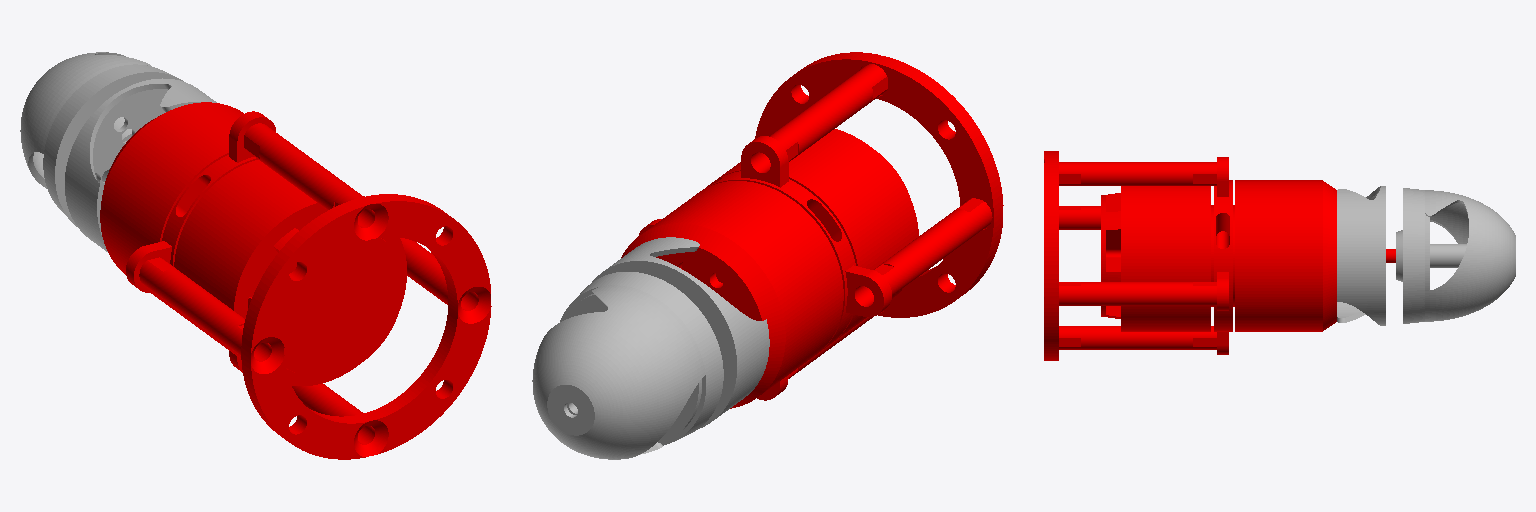
The robot description file, URDF, robot "crm2413_assembly_2":
<!--URDF generated by ONSHAPE BY PTC INC, 1.215-->
<robot name="crm2413_assembly_2">
    <link name="root">
        <visual>
            <origin xyz="0 0 0" rpy="0 -0 0" />
            <geometry>
                <mesh filename="package://crm2413_assembly_2/meshes/Base_ring.stl" scale="1 1 1" />
            </geometry>
            <material name="1.000000_0.000000_0.000000_0.000000_0.000000">
                <color rgba="1 0 0 1" />
            </material>
        </visual>
        <visual>
            <origin xyz="-0.0185 0.0189 -1.73472e-18" rpy="0 1.5708 -0" />
            <geometry>
                <mesh filename="package://crm2413_assembly_2/meshes/Extension_rods.stl" scale="1 1 1" />
            </geometry>
            <material name="1.000000_0.000000_0.000000_0.000000_0.000000">
                <texture />
                <color rgba="1 0 0 1" />
            </material>
        </visual>
        <visual>
            <origin xyz="0.0185 0.0189 -1.2745e-16" rpy="0 -1.5708 0" />
            <geometry>
                <mesh filename="package://crm2413_assembly_2/meshes/Extension_rods.stl" scale="1 1 1" />
            </geometry>
            <material name="1.000000_0.000000_0.000000_0.000000_0.000000">
                <texture />
                <color rgba="1 0 0 1" />
            </material>
        </visual>
        <visual>
            <origin xyz="-8.76982e-15 0.07955 -1.00788e-14" rpy="-3.14159 -0.713907 3.14159" />
            <geometry>
                <mesh filename="package://crm2413_assembly_2/meshes/CW_8038_propeller.stl" scale="1 1 1" />
            </geometry>
            <material name="0.796078_0.823529_0.937255_0.000000_0.000000">
                <texture />
                <color rgba="0.796078 0.823529 0.937255 1" />
            </material>
        </visual>
        <visual>
            <origin xyz="-1.92042e-16 0.0189 -0.0185" rpy="0 -0 0" />
            <geometry>
                <mesh filename="package://crm2413_assembly_2/meshes/Extension_rods.stl" scale="1 1 1" />
            </geometry>
            <material name="1.000000_0.000000_0.000000_0.000000_0.000000">
                <texture />
                <color rgba="1 0 0 1" />
            </material>
        </visual>
        <visual>
            <origin xyz="2.31365e-18 0.07815 -4.0769e-19" rpy="0 0.862768 0" />
            <geometry>
                <mesh filename="package://crm2413_assembly_2/meshes/Propeller_2_cover.stl" scale="1 1 1" />
            </geometry>
            <material name="0.752941_0.752941_0.752941_0.000000_0.000000">
                <texture />
                <color rgba="0.752941 0.752941 0.752941 1" />
            </material>
        </visual>
        <visual>
            <origin xyz="-3.46945e-18 0.0364 -6.45924e-17" rpy="0 -0 0" />
            <geometry>
                <mesh filename="package://crm2413_assembly_2/meshes/CRM2413.stl" scale="1 1 1" />
            </geometry>
            <material name="1.000000_0.000000_0.000000_0.000000_0.000000">
                <texture />
                <color rgba="1 0 0 1" />
            </material>
        </visual>
        <visual>
            <origin xyz="-3.46945e-18 0.0364 -6.45924e-17" rpy="0 -0 0" />
            <geometry>
                <mesh filename="package://crm2413_assembly_2/meshes/CRM2413_1.stl" scale="1 1 1" />
            </geometry>
            <material name="1.000000_0.000000_0.000000_0.000000_0.000000">
                <texture />
                <color rgba="1 0 0 1" />
            </material>
        </visual>
        <visual>
            <origin xyz="-3.46945e-18 0.0364 -6.45924e-17" rpy="0 -0 0" />
            <geometry>
                <mesh filename="package://crm2413_assembly_2/meshes/CRM2413_2.stl" scale="1 1 1" />
            </geometry>
            <material name="1.000000_0.000000_0.000000_0.000000_0.000000">
                <texture />
                <color rgba="1 0 0 1" />
            </material>
        </visual>
        <visual>
            <origin xyz="-3.46945e-18 0.0364 -6.45924e-17" rpy="0 -0 0" />
            <geometry>
                <mesh filename="package://crm2413_assembly_2/meshes/CRM2413_3.stl" scale="1 1 1" />
            </geometry>
            <material name="1.000000_0.000000_0.000000_0.000000_0.000000">
                <texture />
                <color rgba="1 0 0 1" />
            </material>
        </visual>
        <visual>
            <origin xyz="-0.00293175 0.06045 -0.00555381" rpy="0 -0.435223 0" />
            <geometry>
                <mesh filename="package://crm2413_assembly_2/meshes/CCW_8038_propeller.stl" scale="1 1 1" />
            </geometry>
            <material name="1.000000_1.000000_1.000000_0.000000_0.000000">
                <texture />
                <color rgba="1 1 1 1" />
            </material>
        </visual>
        <visual>
            <origin xyz="-4.98491e-18 0.07235 -5.82183e-17" rpy="-2.97887e-16 0.280642 -1.50559e-16" />
            <geometry>
                <mesh filename="package://crm2413_assembly_2/meshes/Cone_screw.stl" scale="1 1 1" />
            </geometry>
            <material name="0.752941_0.752941_0.752941_0.000000_0.000000">
                <texture />
                <color rgba="0.752941 0.752941 0.752941 1" />
            </material>
        </visual>
        <visual>
            <origin xyz="6.28577e-17 0.0189 0.0185" rpy="3.14159 -3.36902e-15 3.14159" />
            <geometry>
                <mesh filename="package://crm2413_assembly_2/meshes/Extension_rods.stl" scale="1 1 1" />
            </geometry>
            <material name="1.000000_0.000000_0.000000_0.000000_0.000000">
                <texture />
                <color rgba="1 0 0 1" />
            </material>
        </visual>
        <visual>
            <origin xyz="-4.54734e-19 0.07365 -7.72725e-17" rpy="0 -0.372567 0" />
            <geometry>
                <mesh filename="package://crm2413_assembly_2/meshes/Propeller_2_base.stl" scale="1 1 1" />
            </geometry>
            <material name="0.752941_0.752941_0.752941_0.000000_0.000000">
                <texture />
                <color rgba="0.752941 0.752941 0.752941 1" />
            </material>
        </visual>
        <visual>
            <origin xyz="-3.68629e-18 0.06005 -6.29158e-17" rpy="0 -0.523599 0" />
            <geometry>
                <mesh filename="package://crm2413_assembly_2/meshes/Propeller_1_cover.stl" scale="1 1 1" />
            </geometry>
            <material name="0.752941_0.752941_0.752941_0.000000_0.000000">
                <texture />
                <color rgba="0.752941 0.752941 0.752941 1" />
            </material>
        </visual>
    </link>
</robot>

--- Facts derived from the render (not from the file) ---
3 views of the same robot in one strip: view 1: azimuth 30°, elevation 25°; view 2: azimuth 150°, elevation 25°; view 3: azimuth 270°, elevation 25° (orthographic).
Model crm2413_assembly_2 with 1 links and 0 joints (none), rooted at root, posed every joint at zero.
Links seen in each view (by area): view 1: root; view 2: root; view 3: root.
Boxes of the visible links, <box> form: root: <box>20,52,491,459</box>; root: <box>532,52,1003,459</box>; root: <box>1044,151,1515,360</box>.
Bounding box of the posed robot: 0.044 × 0.0966 × 0.044 m (x, y, z).
13 mesh visuals loaded from 12 distinct referenced files (10 binary STL); not drawn: 2 (reference not matched to a file when rendering).
